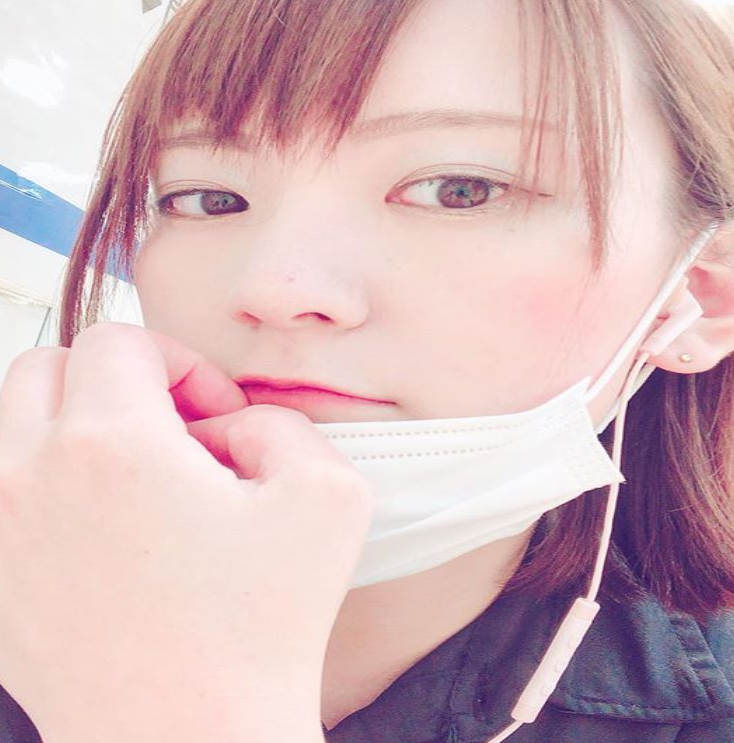mask_weared_incorrect: (125, 0, 734, 575)
